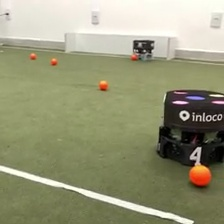ball: (187, 162, 212, 187), (97, 78, 109, 90), (50, 56, 58, 65), (29, 52, 37, 60), (131, 52, 138, 60)
goal: (63, 29, 177, 62)
robot: (154, 86, 224, 168), (131, 37, 155, 62)
